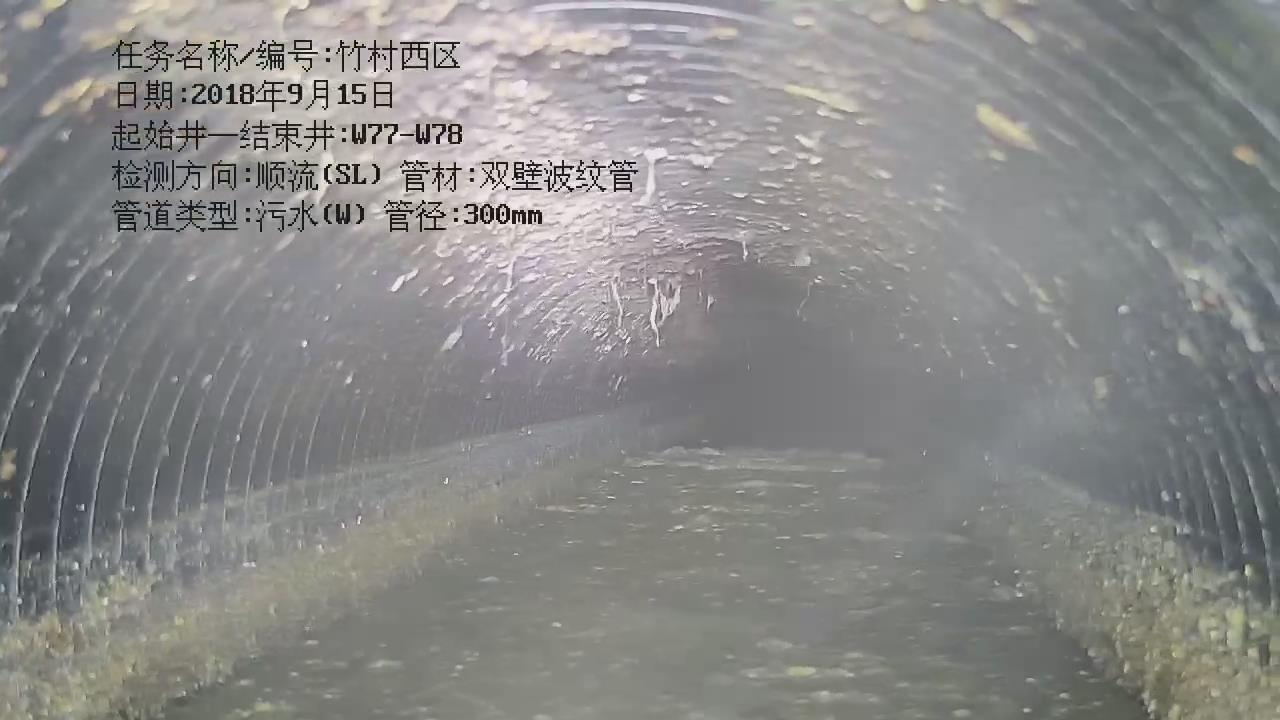FZ: (162, 449, 1141, 719)
JG: (114, 0, 904, 382), (0, 405, 678, 719), (978, 472, 1279, 719)
